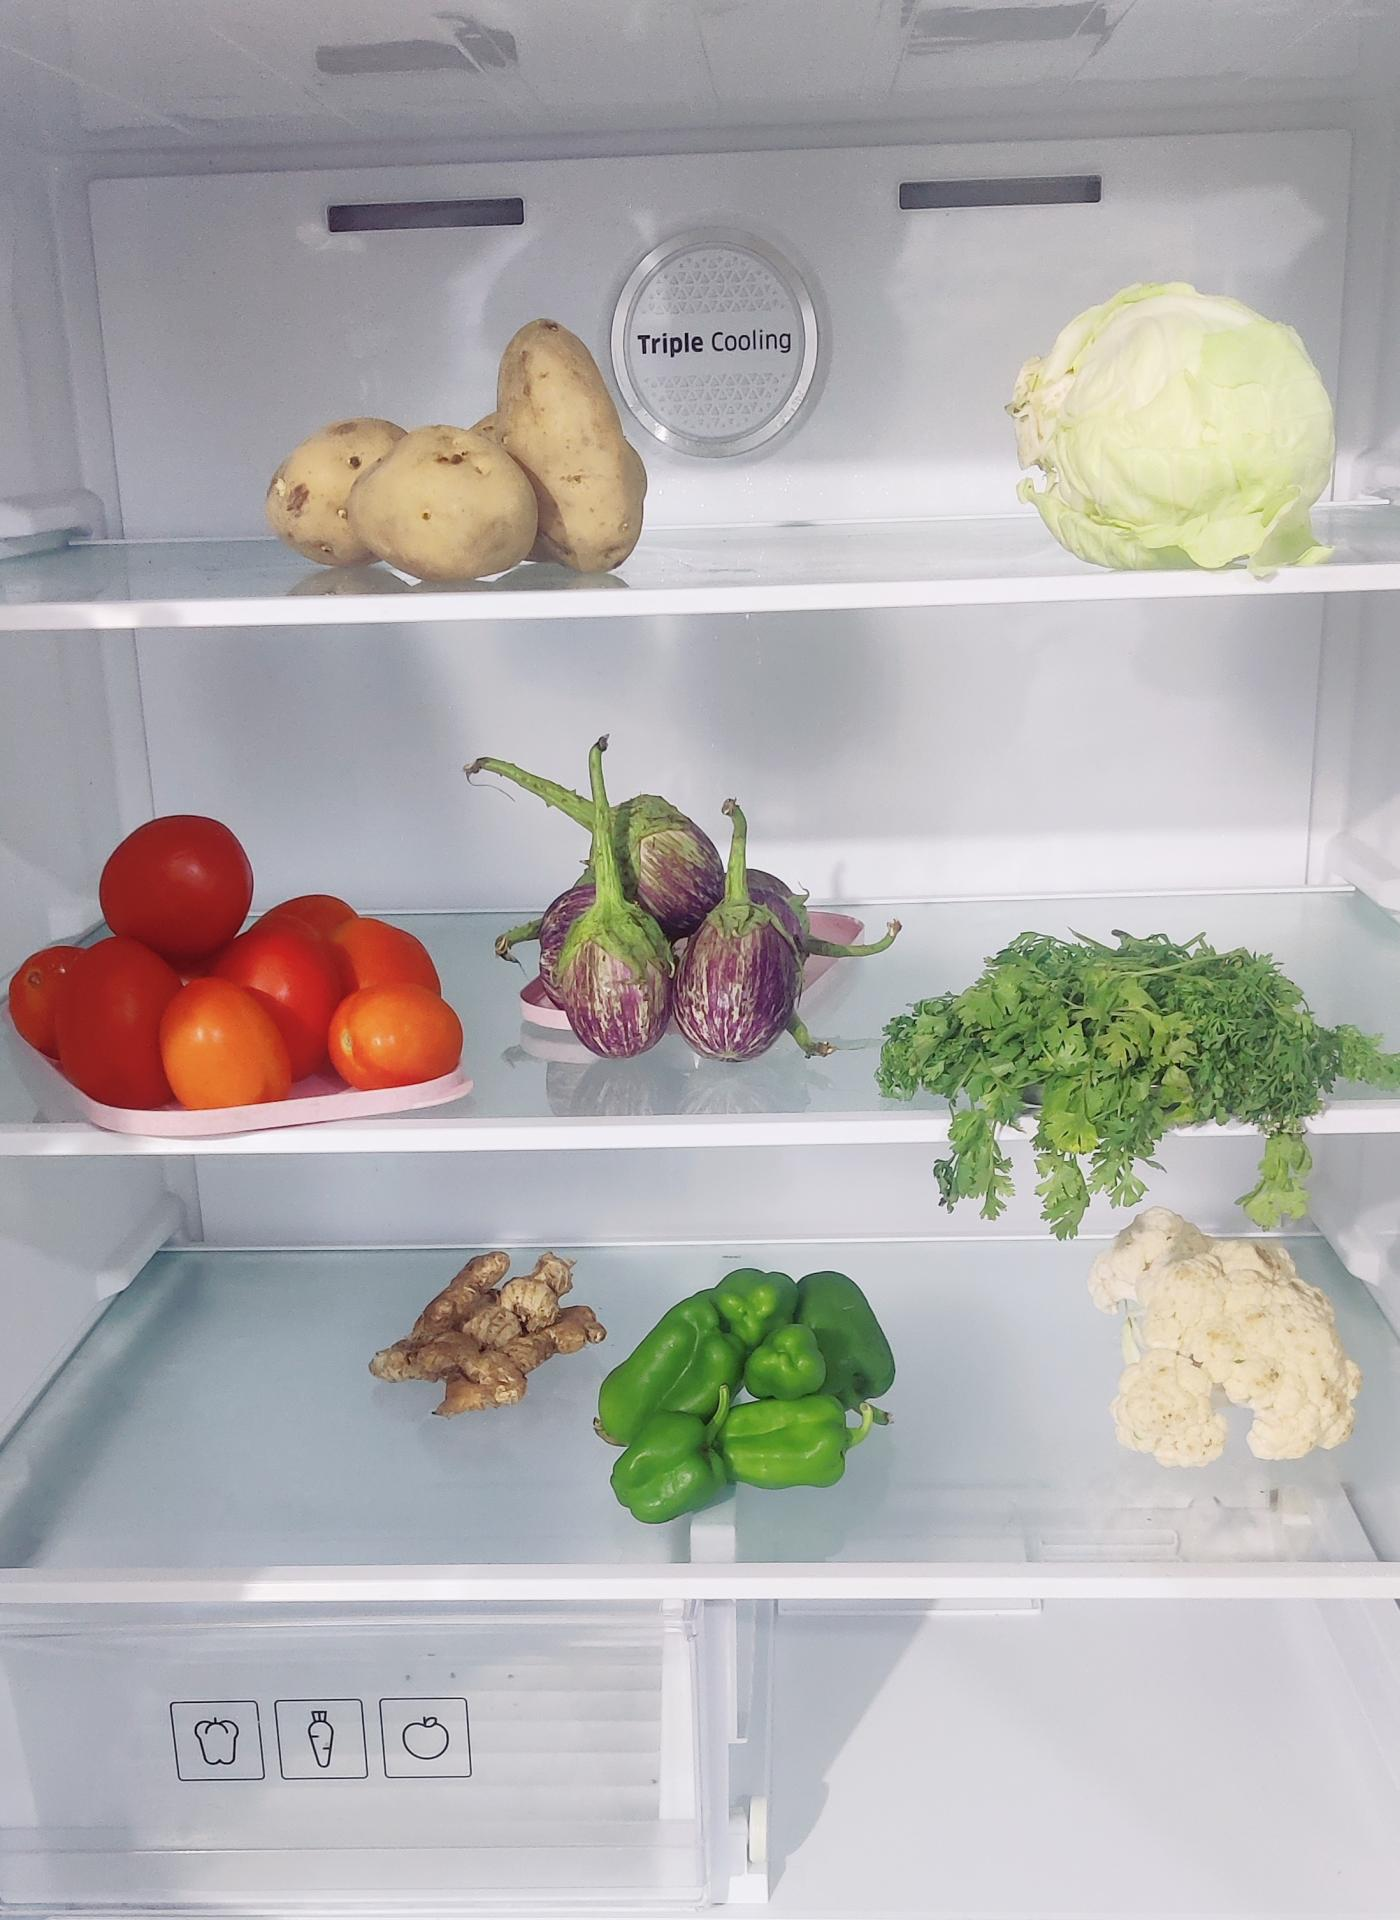brinjal: (525, 756, 824, 1072)
cabbage: (1015, 277, 1342, 575)
capsicum: (595, 1248, 883, 1516)
cauliflower: (1072, 1209, 1363, 1464)
coriander: (887, 933, 1345, 1227)
ginger: (385, 1221, 593, 1389)
potato: (279, 318, 646, 580)
tomato: (21, 802, 479, 1114)
